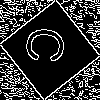C: (25, 25, 75, 67)
